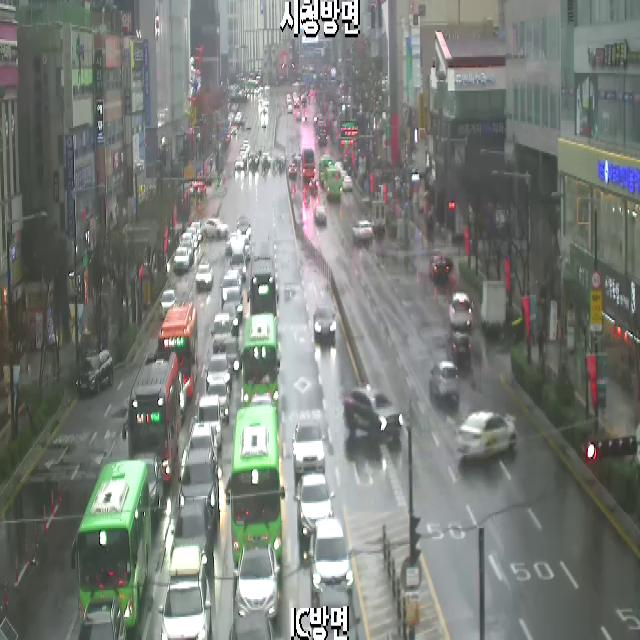Bus: (72, 459, 150, 629), (225, 404, 285, 570), (122, 352, 179, 484), (241, 312, 280, 417), (156, 304, 198, 401), (247, 240, 279, 324), (326, 169, 342, 199), (302, 147, 316, 177), (319, 157, 333, 183)
Car: (158, 546, 211, 640), (308, 519, 354, 603), (233, 545, 280, 620), (170, 501, 214, 576), (342, 384, 403, 438), (178, 448, 219, 519), (458, 412, 516, 460), (293, 474, 336, 538), (315, 586, 360, 640), (292, 421, 326, 486), (77, 596, 126, 640), (133, 453, 165, 520), (75, 350, 113, 397), (194, 394, 223, 450), (229, 611, 275, 640), (188, 425, 217, 470), (429, 362, 460, 402), (205, 353, 232, 395), (206, 380, 230, 422), (448, 331, 472, 367), (218, 340, 242, 375), (313, 307, 336, 343), (448, 294, 472, 328), (211, 313, 233, 343), (230, 240, 246, 280), (220, 278, 240, 308), (222, 302, 239, 332), (204, 219, 229, 239), (196, 262, 213, 291), (160, 290, 177, 319), (429, 256, 449, 280), (226, 290, 243, 318), (353, 221, 372, 243), (236, 217, 251, 240), (179, 373, 186, 421), (174, 248, 189, 270), (226, 270, 242, 290), (314, 206, 327, 226), (186, 228, 199, 247), (180, 240, 194, 257), (226, 232, 236, 254), (190, 223, 202, 241), (182, 233, 193, 249), (248, 153, 259, 168), (342, 177, 353, 192), (234, 157, 245, 171), (245, 240, 251, 260), (288, 164, 297, 177), (309, 180, 318, 192), (334, 162, 343, 170), (341, 171, 348, 179)
Truck: (479, 281, 506, 334), (364, 201, 386, 235)
